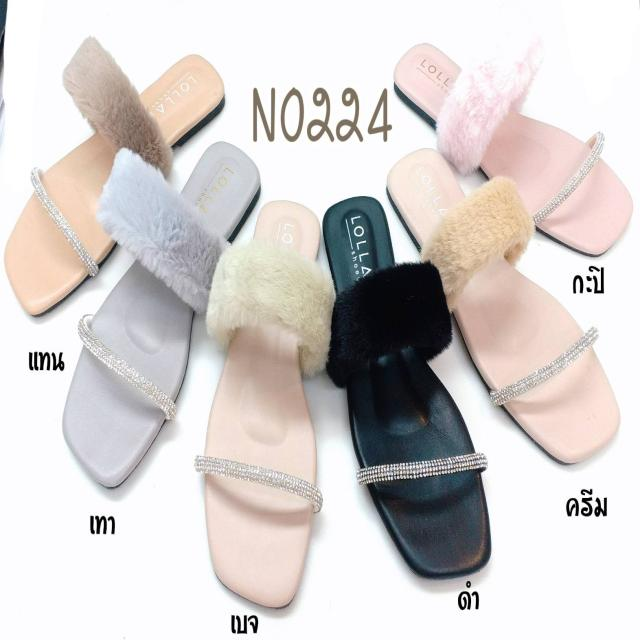bej: (206, 196, 321, 616)
black: (323, 198, 494, 574)
cream: (388, 148, 618, 470)
grey: (59, 142, 258, 492)
kapi: (392, 42, 633, 258)
tan: (7, 50, 220, 310)
